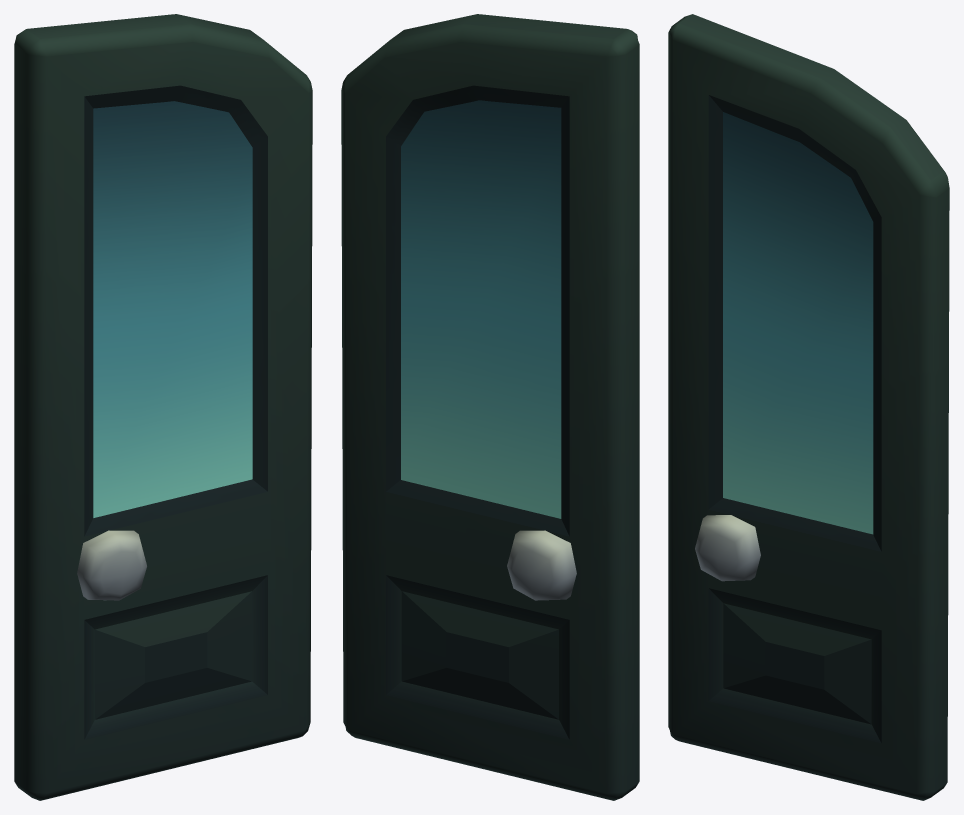
The model's file is door_appartment_arch_col1_LOD_setup.fbx.
The picture shows the model from 3 angles, left to right: view 1: azimuth 30°, elevation 25°; view 2: azimuth 150°, elevation 25°; view 3: azimuth 330°, elevation 25°; orthographic projection. The views are drawn at different scales.
Parts seen in each view (by area): view 1: door_appartment_arch_col1_LOD0; view 2: door_appartment_arch_col1_LOD0; view 3: door_appartment_arch_col1_LOD0.
Part boxes in pixels (x1,y1,x2,y2): door_appartment_arch_col1_LOD0: (14, 14, 312, 800); door_appartment_arch_col1_LOD0: (341, 14, 639, 800); door_appartment_arch_col1_LOD0: (668, 14, 949, 800).
Size of what is drawn, in the model's own units: 105 by 269 by 36.84.
